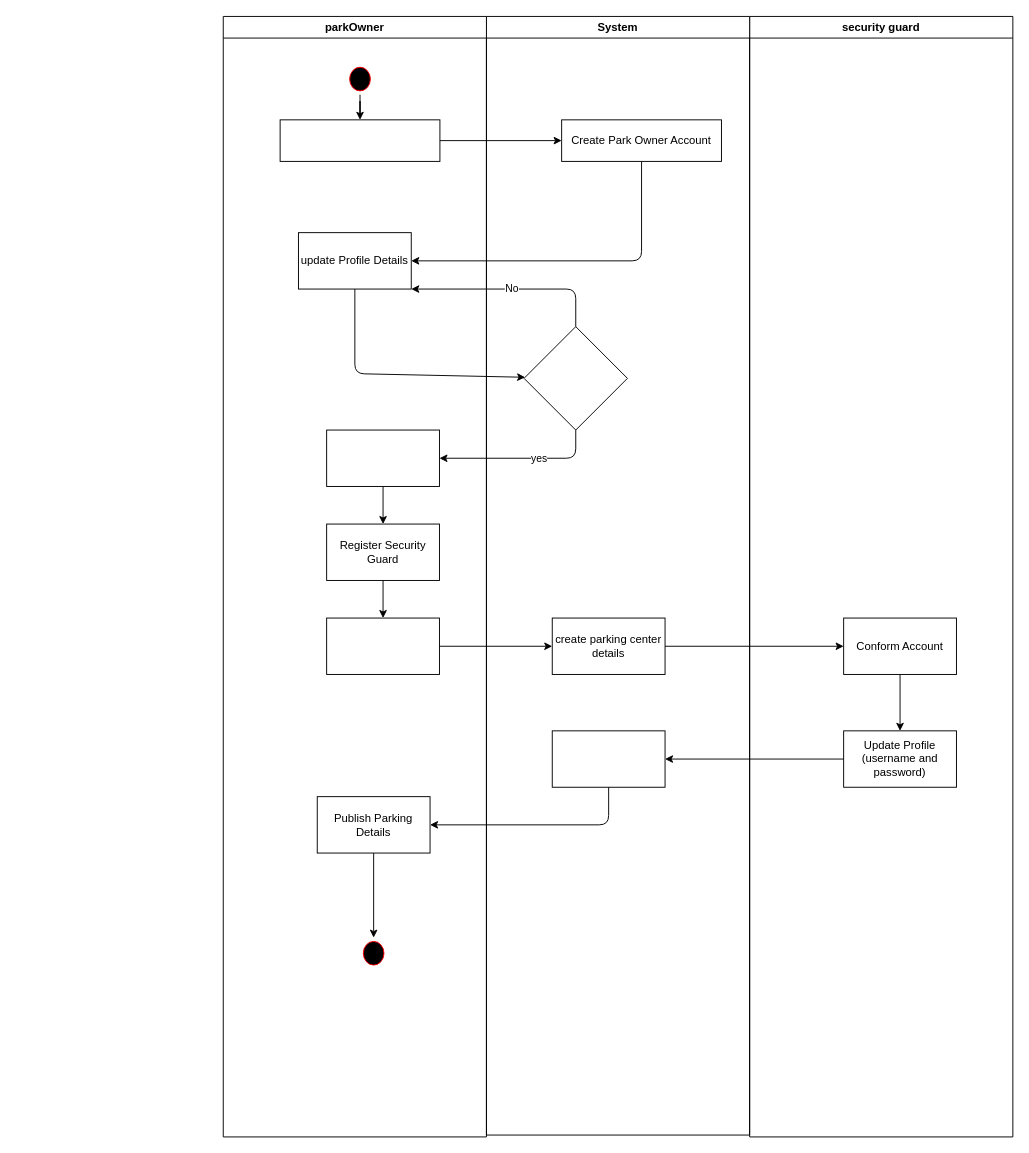
The diagram is 1029 pixels wide and 1153 high, and some of its shapes have lost their labels. The shapes that lost their labels are listed below. From the top down, each one's centre as x and y in pixels, then its label:
(359,140): Register and LogIn
(575,378): is Account Verified
(382,457): Add Parking center details
(382,645): Asign Guard to parking center
(608,758): update data
